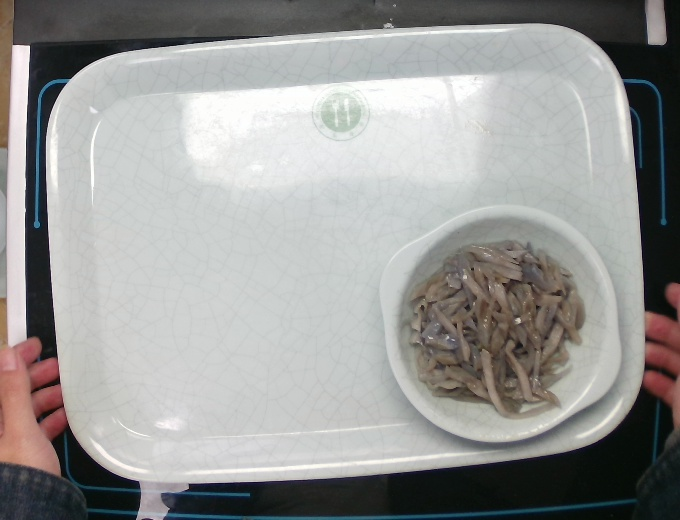JYsf-Shuang_Er_Wan: (372, 200, 629, 447)
